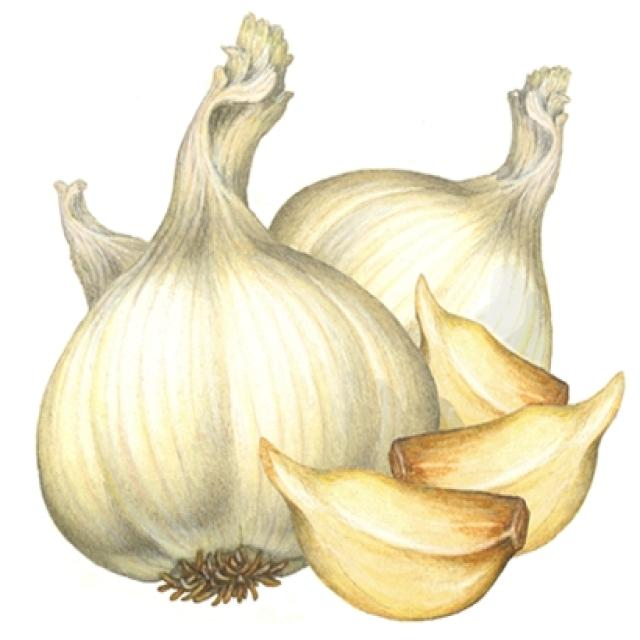garlic: (36, 14, 436, 601), (268, 65, 567, 365), (258, 438, 526, 616), (389, 371, 621, 549), (414, 273, 565, 422)
